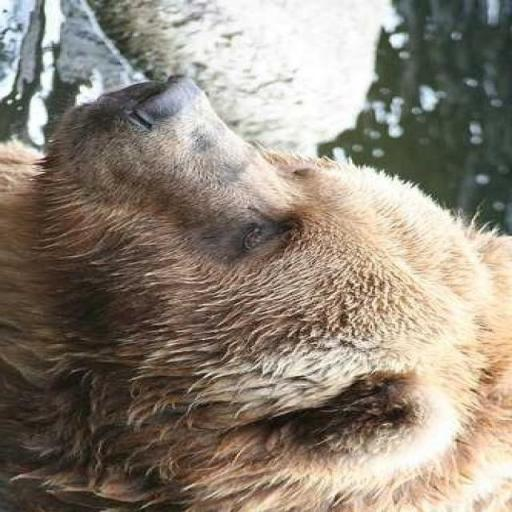Bear: (0, 72, 510, 511)
